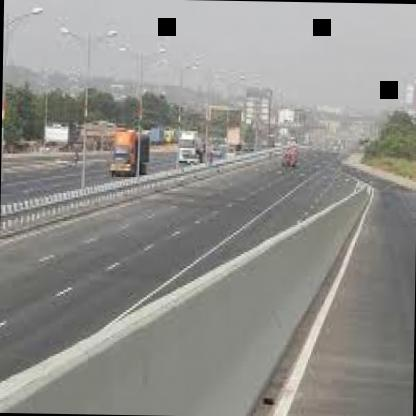car: (103, 118, 150, 176), (174, 119, 212, 168)
